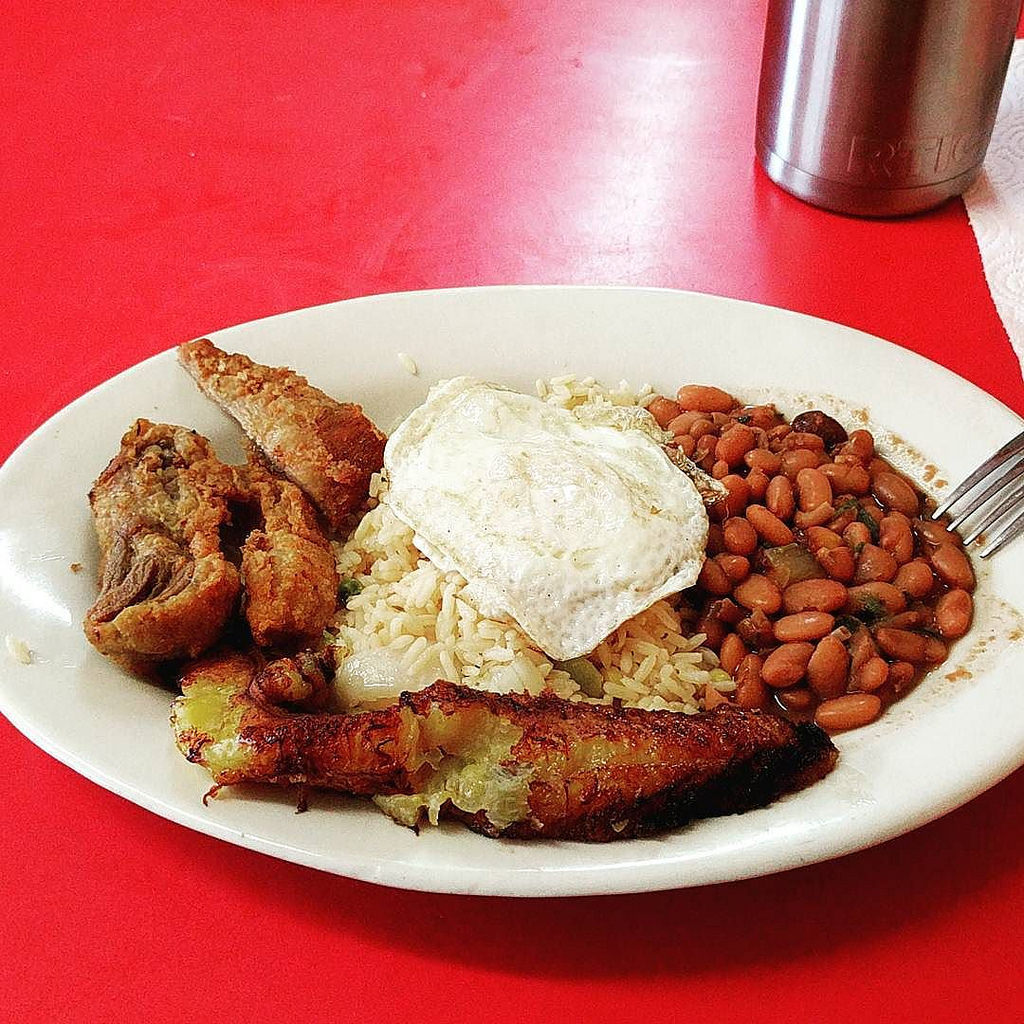fried egg: (399, 366, 711, 617)
plain rice: (365, 609, 547, 683)
